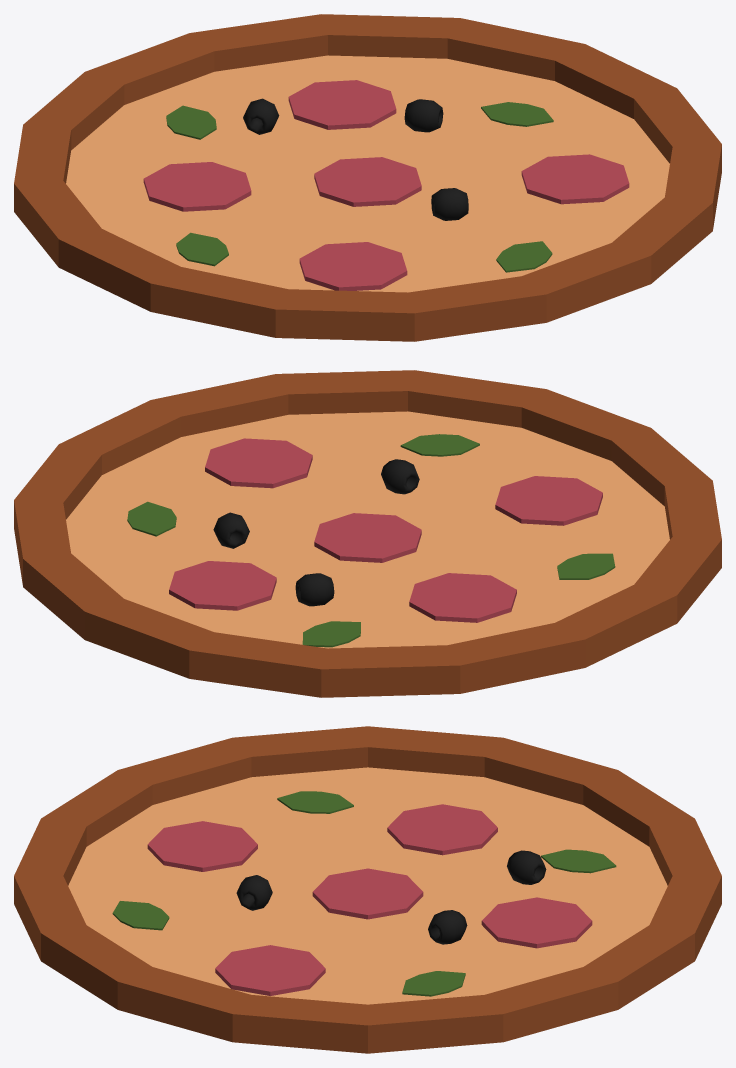
The model's file is pizza_cuite.fbx.
3 views of the same model, one above another, from view 1: azimuth 30°, elevation 25°; view 2: azimuth 150°, elevation 25°; view 3: azimuth 270°, elevation 25° (orthographic).
Parts seen in each view (by area): view 1: Pizza cuite, Circle.023, Circle.024, Circle.025, Circle.022, Circle.026, Plane.027, Plane.028, Plane.030, Plane.026, Cylinder.030, Cylinder.036 (+1 smaller); view 2: Pizza cuite, Circle.023, Circle.024, Circle.026, Circle.022, Circle.025, Plane.028, Plane.030, Plane.026, Plane.027, Cylinder.026, Cylinder.036 (+1 smaller); view 3: Pizza cuite, Circle.026, Circle.025, Circle.024, Circle.023, Circle.022, Plane.026, Plane.030, Plane.027, Plane.028, Cylinder.026, Cylinder.030 (+1 smaller).
Part boxes in pixels (<box>): Pizza cuite: <box>14,14,721,341</box>; Circle.023: <box>521,154,629,204</box>; Circle.024: <box>288,80,396,129</box>; Circle.025: <box>143,162,251,211</box>; Circle.022: <box>314,157,421,206</box>; Circle.026: <box>299,242,407,290</box>; Plane.027: <box>481,102,553,126</box>; Plane.028: <box>496,241,552,272</box>; Plane.030: <box>176,232,228,266</box>; Plane.026: <box>166,105,216,139</box>; Cylinder.030: <box>404,99,443,132</box>; Cylinder.036: <box>431,188,468,220</box>; Pizza cuite: <box>14,370,721,697</box>; Circle.023: <box>205,438,312,488</box>; Circle.024: <box>169,561,276,610</box>; Circle.026: <box>495,476,602,525</box>; Circle.022: <box>314,513,421,562</box>; Circle.025: <box>409,573,516,622</box>; Plane.028: <box>400,434,479,456</box>; Plane.030: <box>557,553,615,579</box>; Plane.026: <box>302,621,360,647</box>; Plane.027: <box>127,501,176,536</box>; Cylinder.026: <box>295,573,334,606</box>; Cylinder.036: <box>381,459,419,494</box>; Pizza cuite: <box>14,726,721,1053</box>; Circle.026: <box>147,821,257,871</box>; Circle.025: <box>387,804,497,855</box>; Circle.024: <box>481,897,592,948</box>; Circle.023: <box>215,945,325,995</box>; Circle.022: <box>312,868,423,919</box>; Plane.026: <box>541,849,616,873</box>; Plane.030: <box>277,791,353,813</box>; Plane.027: <box>402,971,465,996</box>; Plane.028: <box>112,901,169,930</box>; Cylinder.026: <box>507,850,546,884</box>; Cylinder.030: <box>428,910,467,944</box>.
Bounding box in the file's own units: 36.33 × 2.19 × 36.33.
